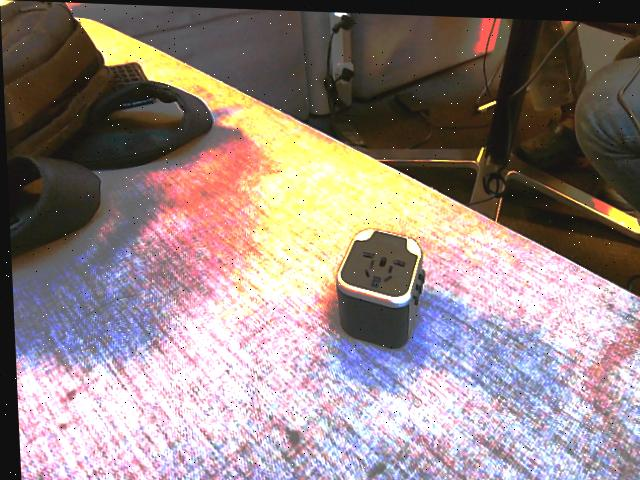adapter: (331, 223, 426, 347)
